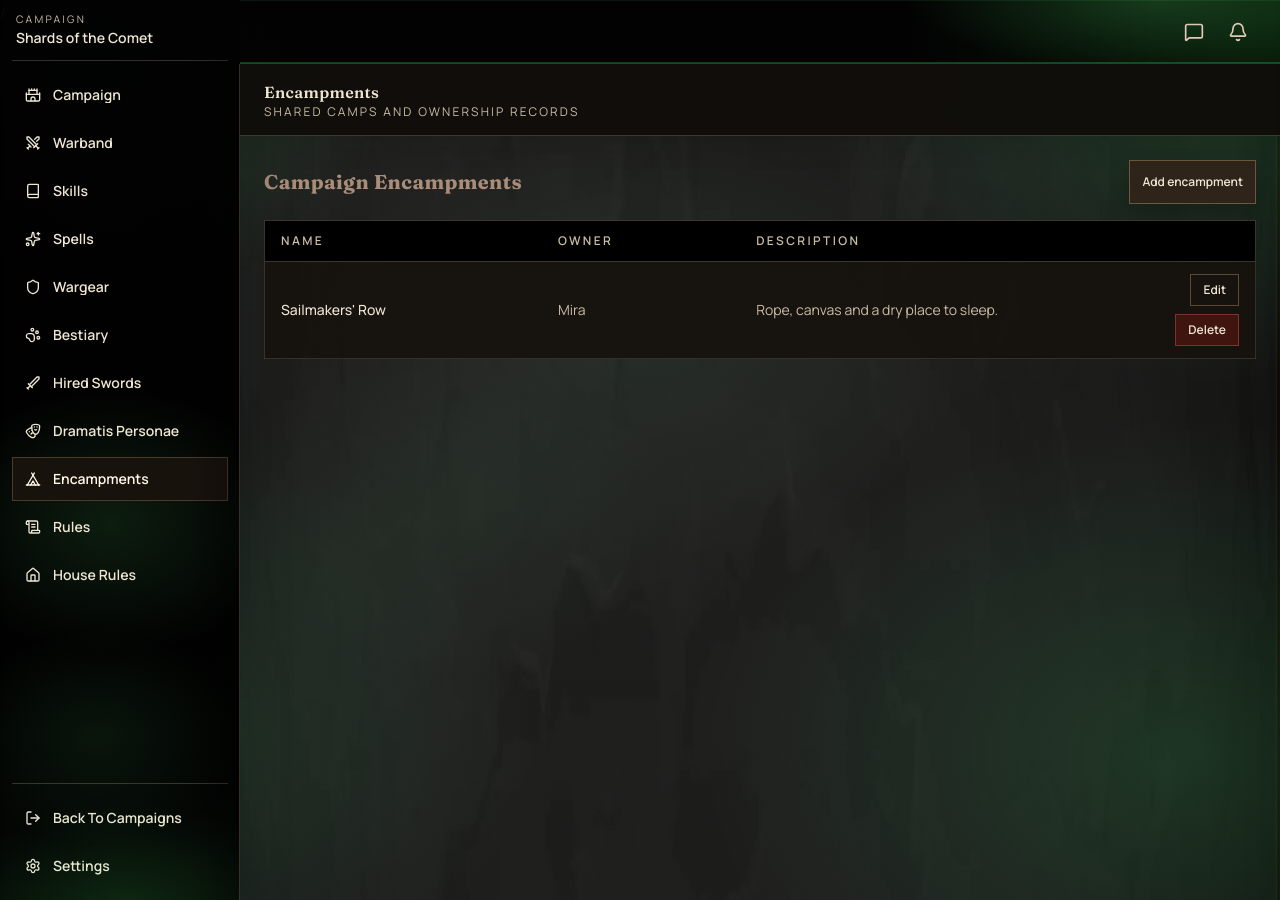
Test case: Encampments: adding and editing, as the owner › defaults a new encampment's owner to you, POSTs your id and lists it in name order (decision 9, CAMP-TWEAK-08)
Expected: the heading "Campaign Encampments" is shown, [264, 168, 522, 196]
Expected: the row "Sailmakers' Row" is shown, [264, 262, 1256, 358]
Click the button "Add encampment": (1193, 182) [1129, 160, 1256, 204]
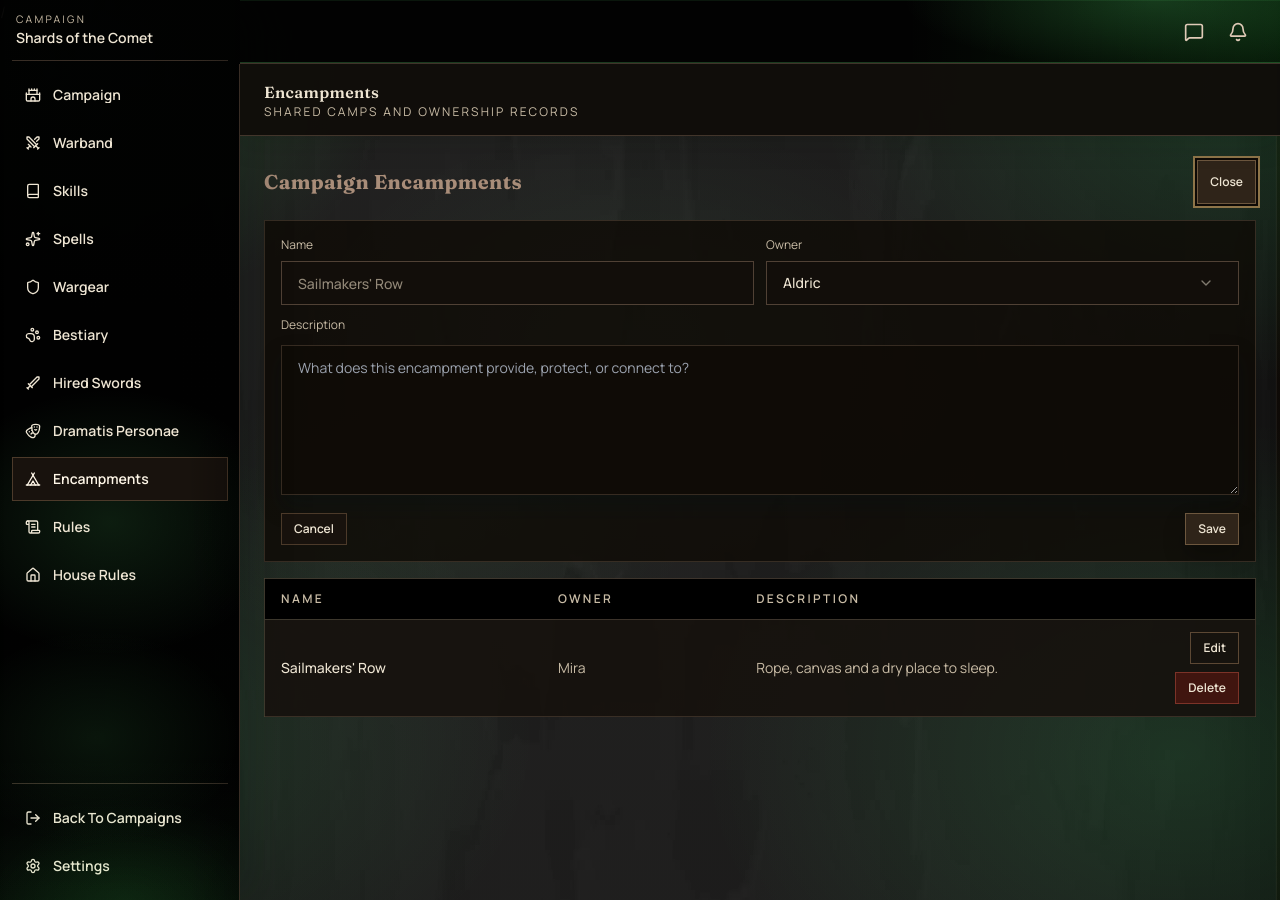
Now the dropdown reads "Aldric", box [766, 261, 1239, 305]
In the field with placeholder "Sailmakers' Row": (518, 283) [281, 261, 754, 305], type "Bell Tower"
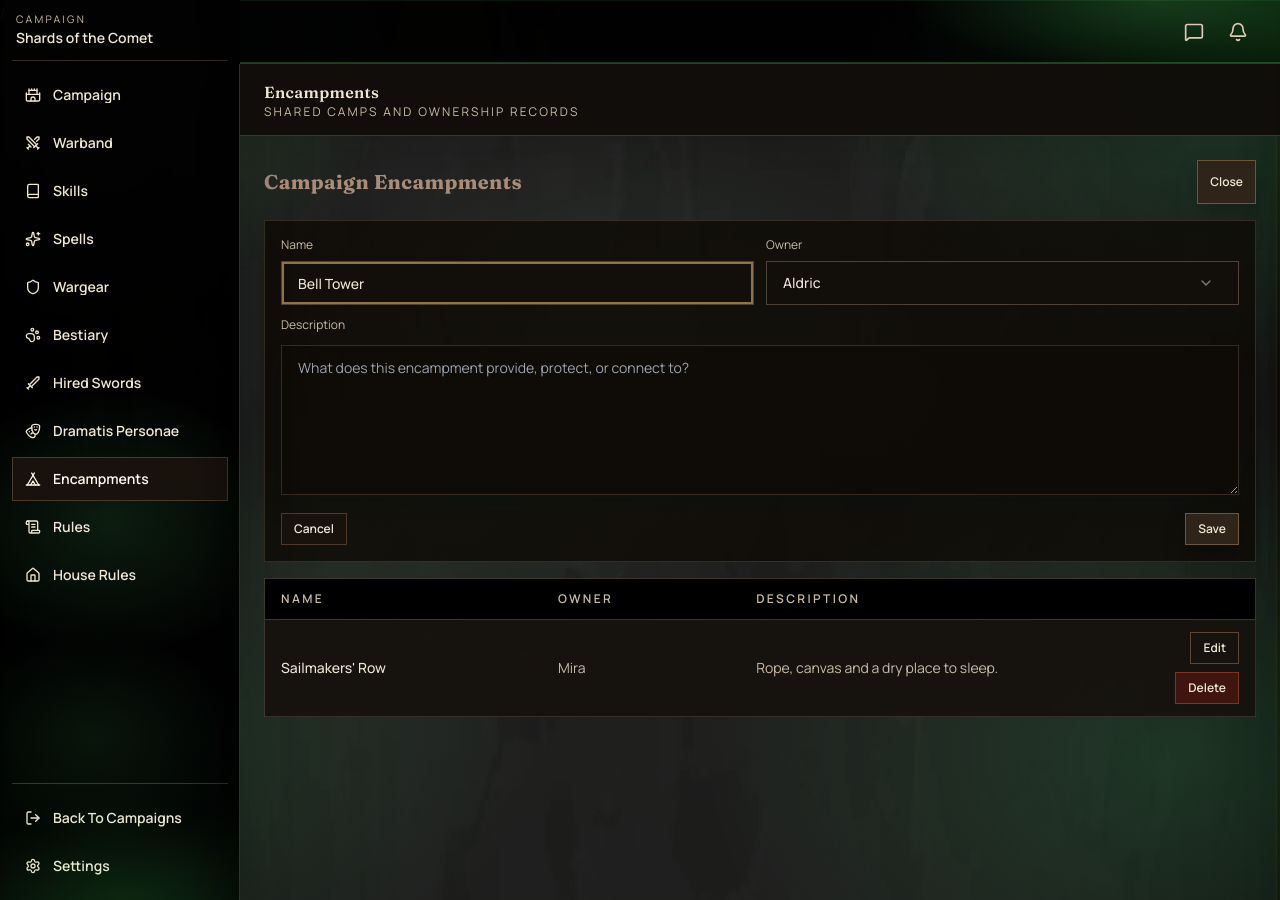
Click the button "Save": (1212, 529) [1185, 513, 1239, 545]
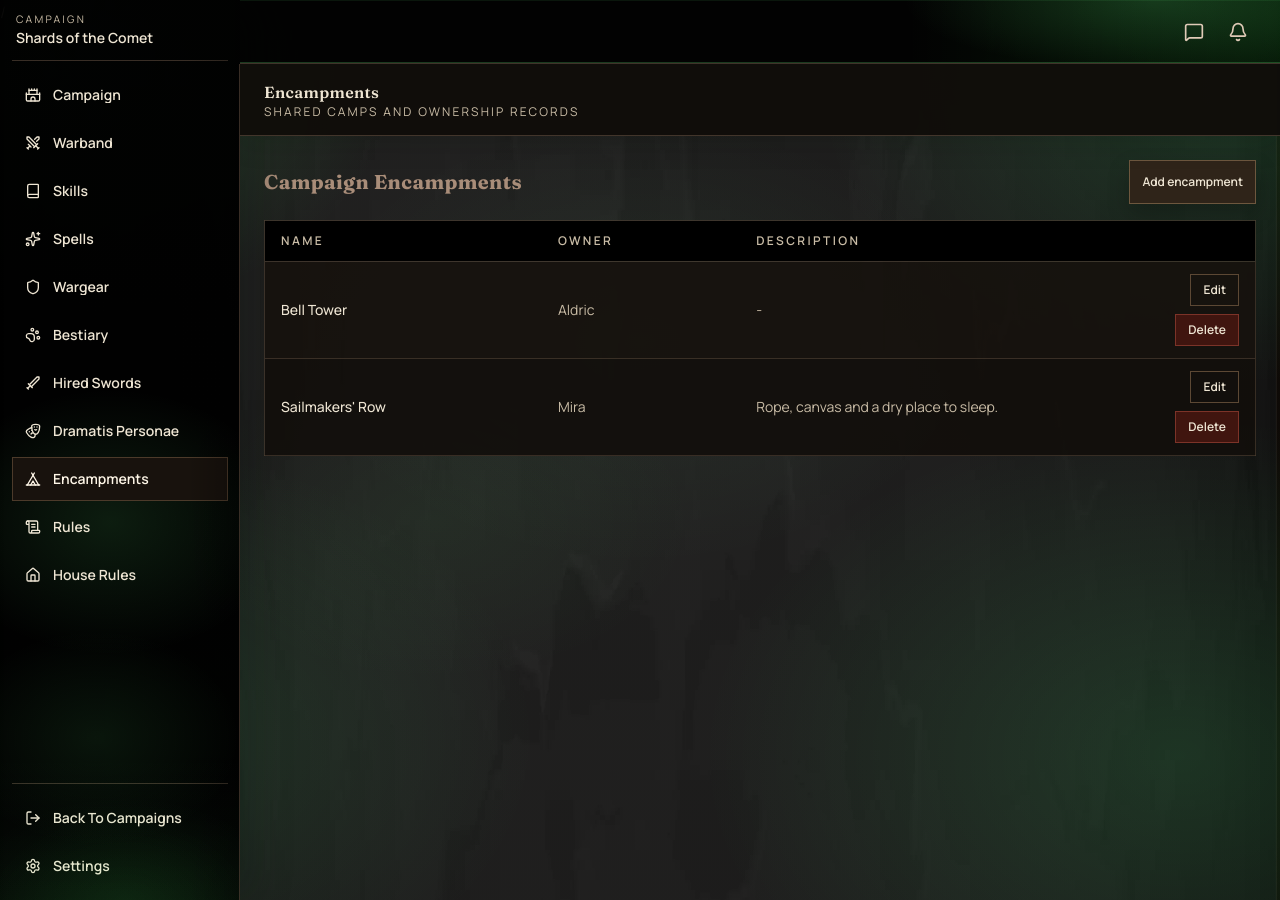
Now the dropdown is gone
Now the row "Bell Tower Aldric - Edit Delete" is shown, box [264, 262, 1256, 358]
